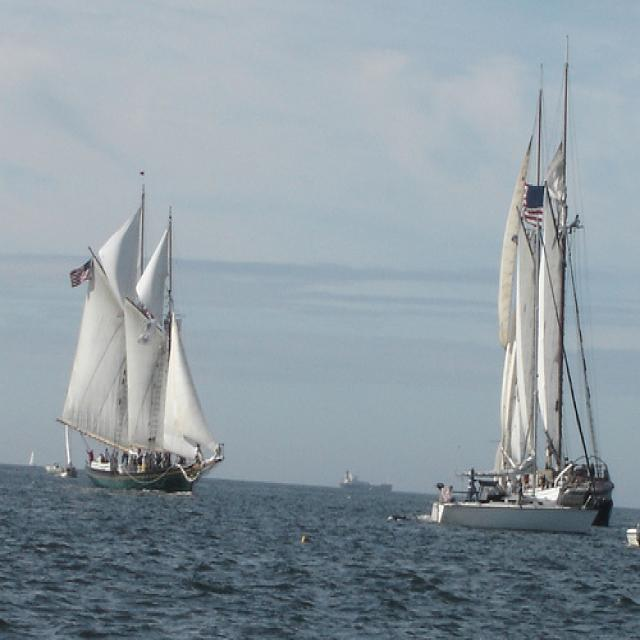Ship: (424, 68, 624, 531), (59, 190, 234, 491)
